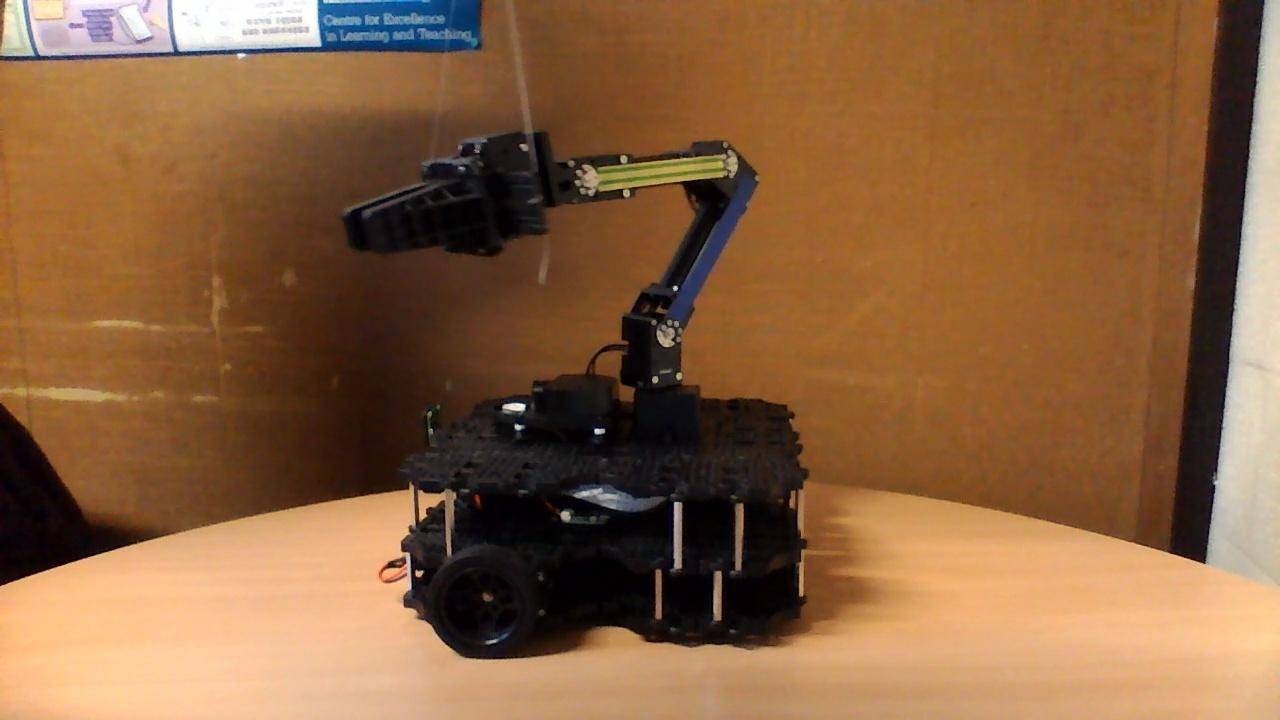Arm: (619, 173, 762, 350)
Hand: (342, 127, 569, 262)
Wrist: (569, 137, 740, 206)
base: (382, 369, 816, 662)
